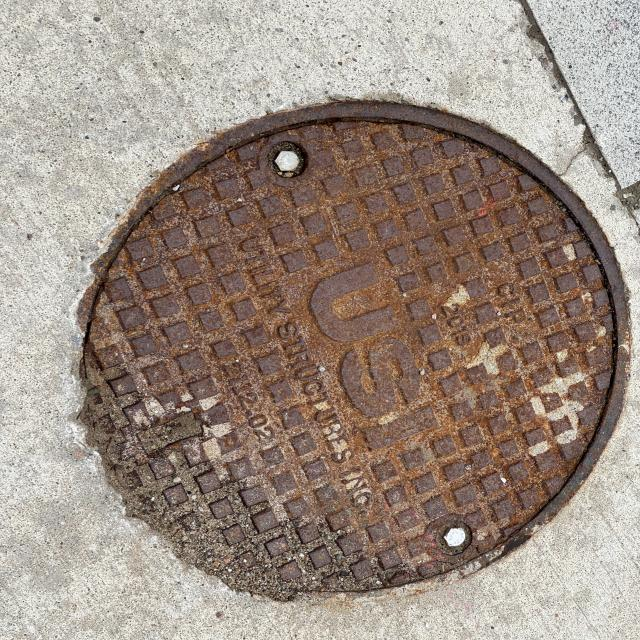Manhole: (81, 98, 628, 598)
